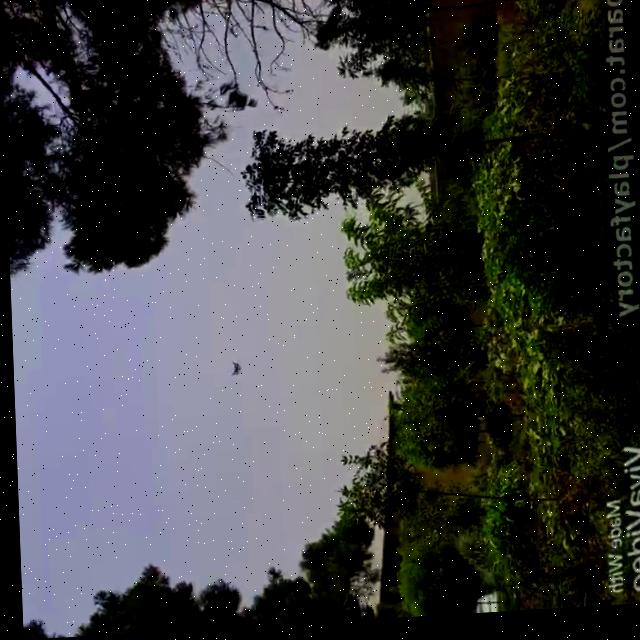drone: (221, 356, 242, 386)
